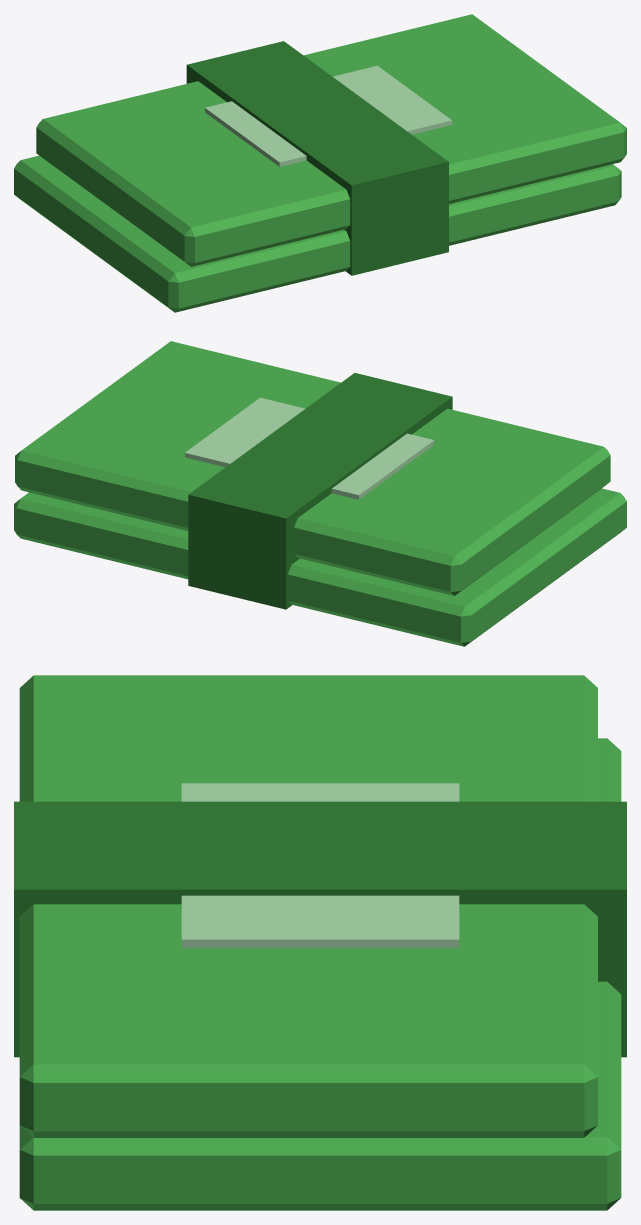
File: Para_Model.fbx
The picture shows the model from 3 angles, top to bottom: view 1: azimuth 30°, elevation 25°; view 2: azimuth 150°, elevation 25°; view 3: azimuth 270°, elevation 25°; orthographic projection. The views are drawn at different scales.
Parts seen in each view (by area): view 1: Para_Model; view 2: Para_Model; view 3: Para_Model.
Part boxes in pixels (x1,y1,x2,y2): Para_Model: (14, 14, 626, 312); Para_Model: (14, 341, 626, 646); Para_Model: (14, 675, 626, 1210).
Bounding box in the file's own units: 42.5 × 8 × 26.5.
